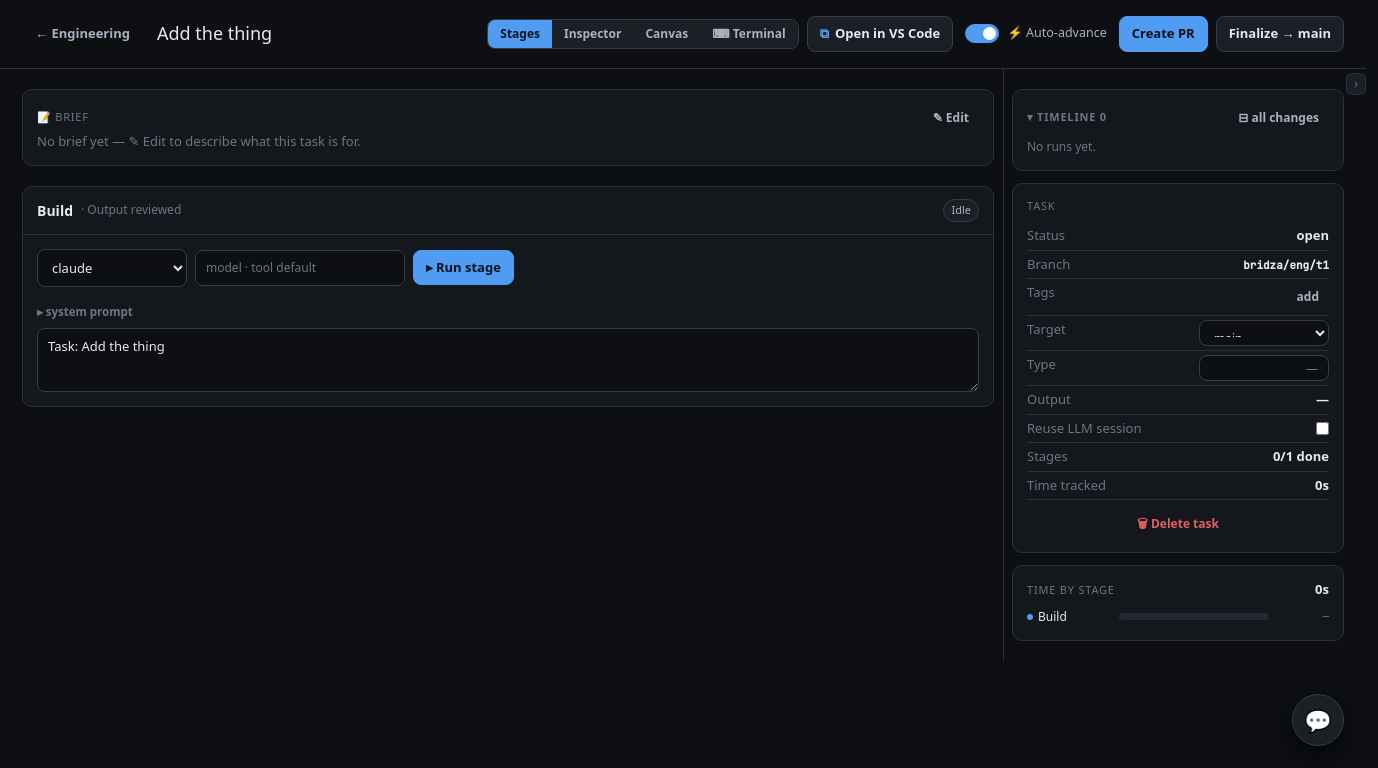
Scenario: Create PR button › shows a busy label, refuses a second click, and opens the created PR
The image size is (1378, 768).
Step 1. Click the button "Create PR" → [1163, 34], box [1119, 16, 1208, 52]
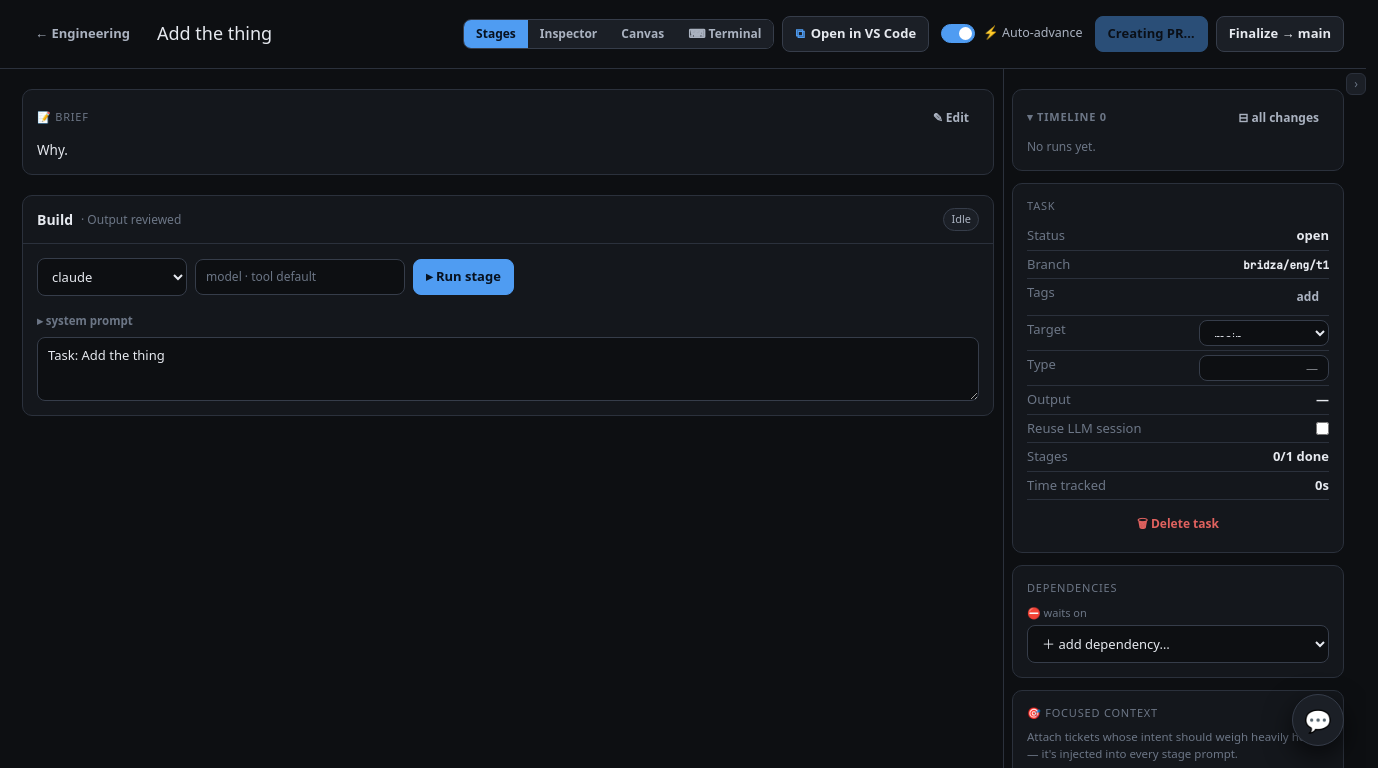
Now the button "Creating PR…" is shown
Now the button "Creating PR…" is disabled
Step 2. Click the button "Creating PR…" → [1151, 34], box [1095, 16, 1208, 52]
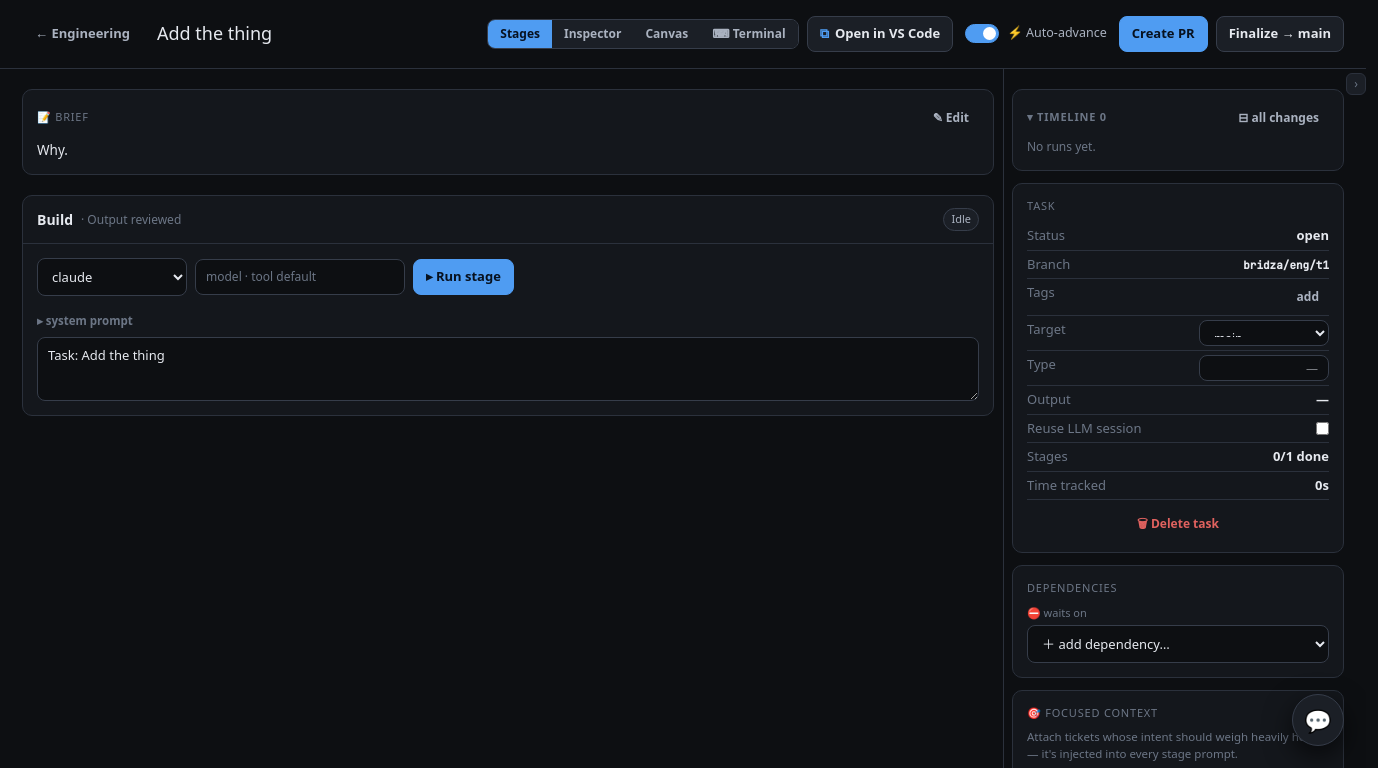
Now the button "Create PR" is shown, box [1119, 16, 1208, 52]
